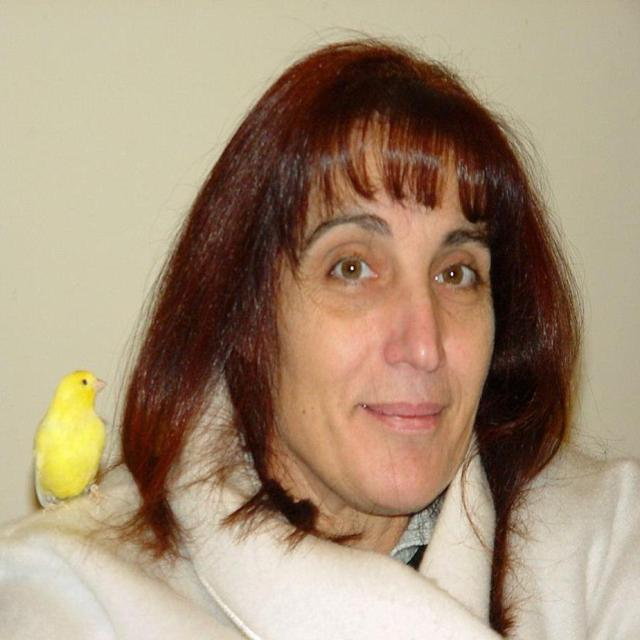Eyebags: (322, 276, 388, 317), (430, 285, 489, 317)
